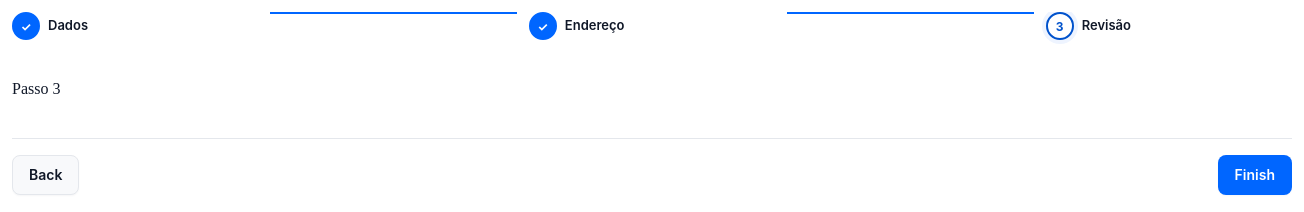
Wizard › jumps backwards from the indicator without validating
The width and height of the screenshot is (1304, 212).
Click the button "✓ Dados".
click(50, 26)  # box x1=12 y1=12 x2=88 y2=40
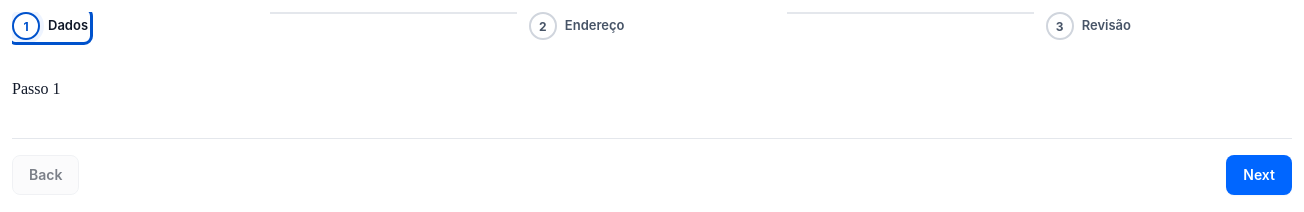
Expected: the text "Passo 1" is shown, x1=12 y1=80 x2=60 y2=97
